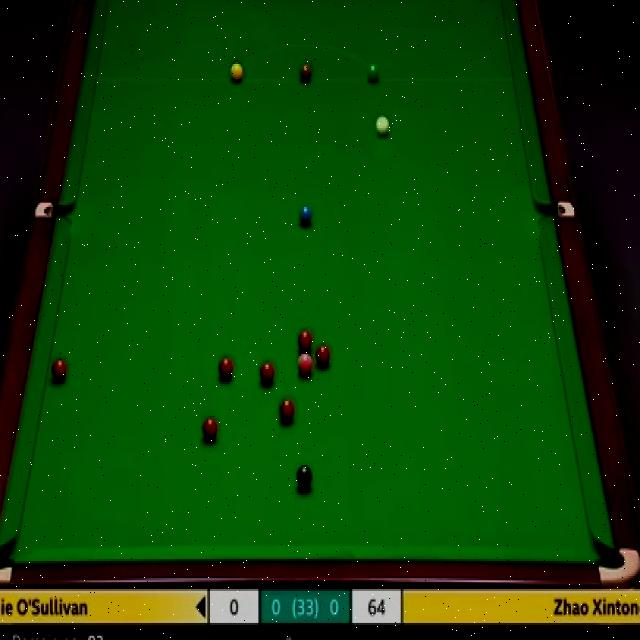black-ball: (297, 464, 314, 489)
blue-ball: (298, 203, 314, 226)
brown-ball: (299, 63, 313, 83)
green-ball: (366, 62, 380, 84)
pink-ball: (296, 352, 314, 378)
red-ball: (200, 416, 219, 442), (278, 397, 296, 423), (258, 360, 276, 386), (51, 358, 69, 382), (218, 356, 234, 381), (315, 344, 331, 369), (298, 328, 314, 352)
white-ball: (376, 114, 391, 138)
yellow-ball: (228, 60, 244, 82)
